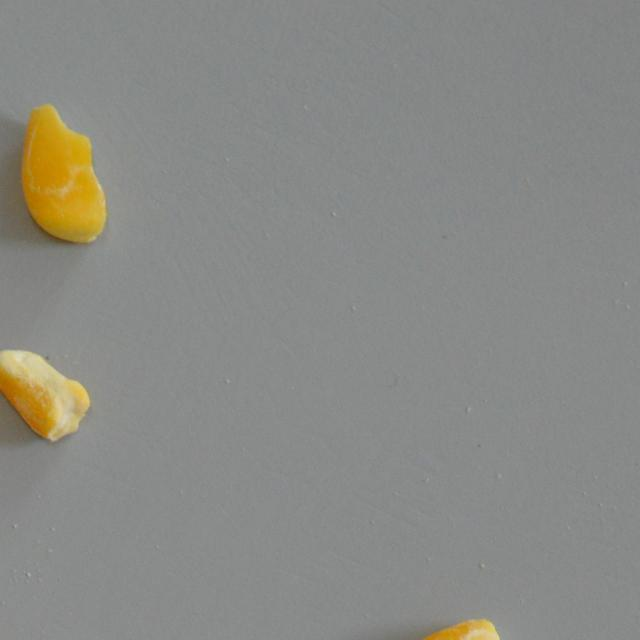pelicula: (20, 100, 106, 245), (0, 352, 94, 424), (385, 618, 505, 640)
